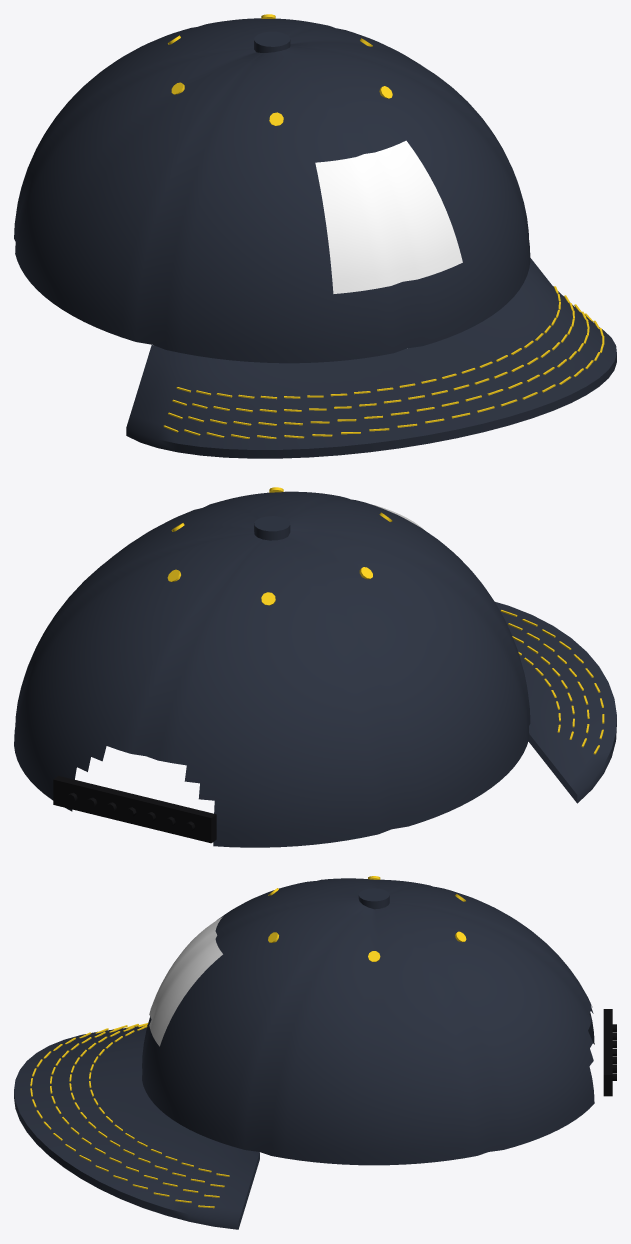
Rendered from bone_curvo.glb.
The picture shows the model from 3 angles, top to bottom: view 1: azimuth 30°, elevation 25°; view 2: azimuth 150°, elevation 25°; view 3: azimuth 270°, elevation 25°; orthographic projection. The views are drawn at different scales.
Parts seen in each view (by area): view 1: Prop_bone_curvo; view 2: Prop_bone_curvo; view 3: Prop_bone_curvo.
Part boxes in pixels (box(x1,y1,x2,y2)): Prop_bone_curvo: box(14, 14, 616, 458); Prop_bone_curvo: box(14, 487, 616, 847); Prop_bone_curvo: box(14, 876, 616, 1229).
Bounding box in the file's own units: 0.3001 × 0.1796 × 0.4068.
